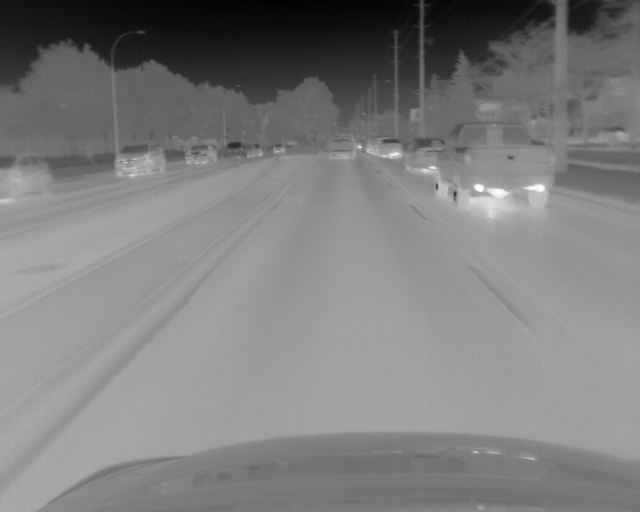car: (433, 121, 554, 211), (1, 153, 50, 198), (115, 144, 166, 178), (405, 139, 446, 172), (184, 145, 218, 164), (329, 138, 356, 158), (377, 138, 401, 159), (223, 142, 247, 159), (249, 144, 261, 157), (273, 144, 285, 155)
